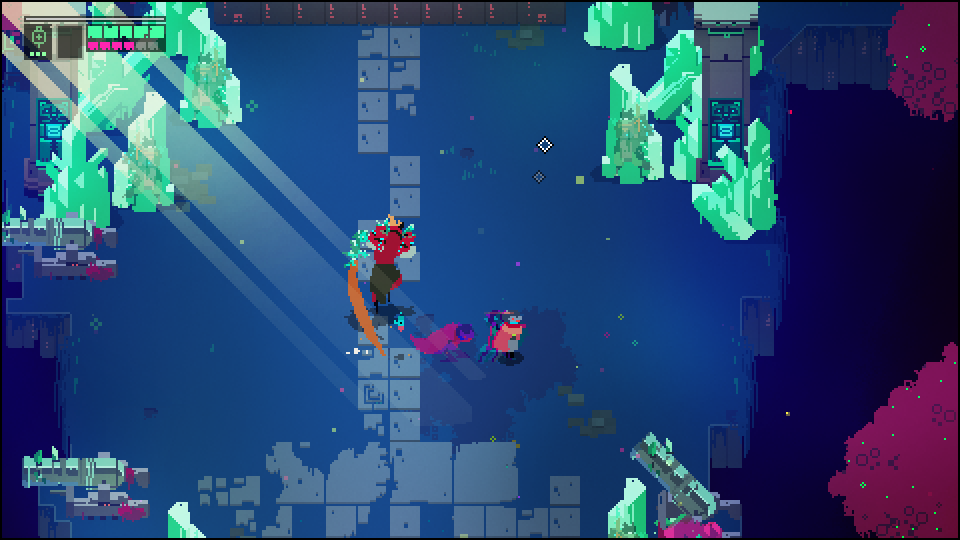hanged_man: (339, 213, 422, 322)
player: (492, 310, 523, 359)
